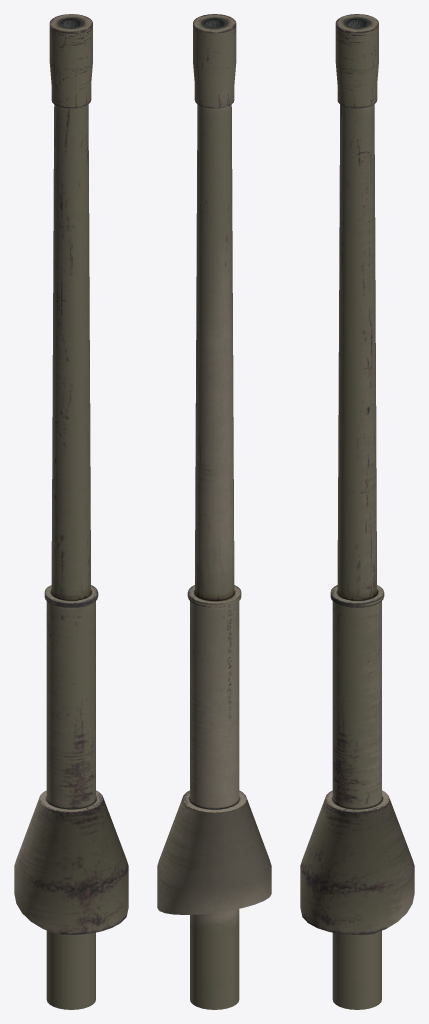
File: Gun_01.glb
The picture shows the model from 3 angles, left to right: view 1: azimuth 30°, elevation 25°; view 2: azimuth 210°, elevation 25°; view 3: azimuth 330°, elevation 25°; orthographic projection.
Parts seen in each view (by area): view 1: set_0_group_0; view 2: set_0_group_0; view 3: set_0_group_0.
Part boxes in pixels (bbox=[...]): set_0_group_0: bbox=[14, 14, 128, 1009]; set_0_group_0: bbox=[157, 14, 271, 1009]; set_0_group_0: bbox=[300, 14, 414, 1009].
Size of the model in its own units: 0.7085 by 6.69 by 0.7084.
Materials: 1 (1 with a texture image).
